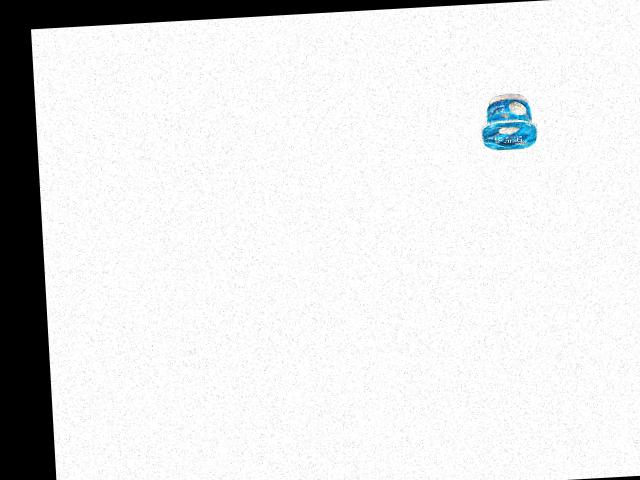cotage: (476, 92, 542, 153)
